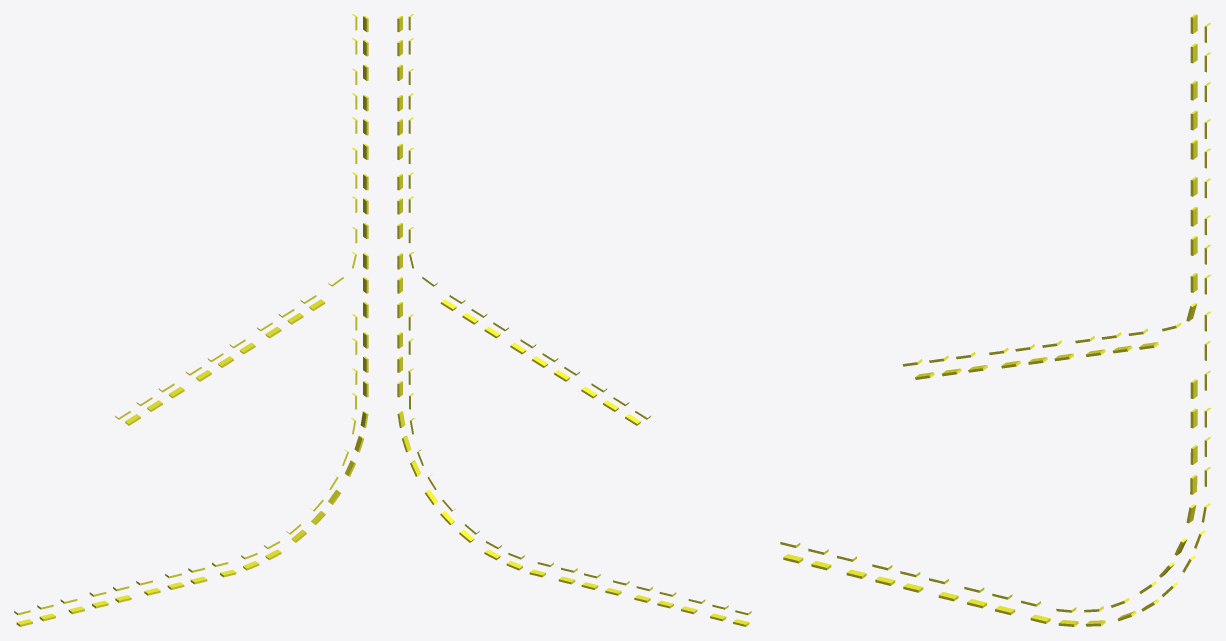
File: LED.glb
The picture shows the model from 3 angles, left to right: view 1: azimuth 30°, elevation 25°; view 2: azimuth 150°, elevation 25°; view 3: azimuth 330°, elevation 25°; orthographic projection. The views are drawn at different scales.
Visible parts, largest first — view 1: LED; view 2: LED; view 3: LED.
Boxes of the visible parts, x1,y1,x2,y2 form: LED: (14,14,368,626); LED: (397,14,751,626); LED: (780,14,1211,626).
Size of the model in its own units: 30.91 by 44.45 by 0.5671.
